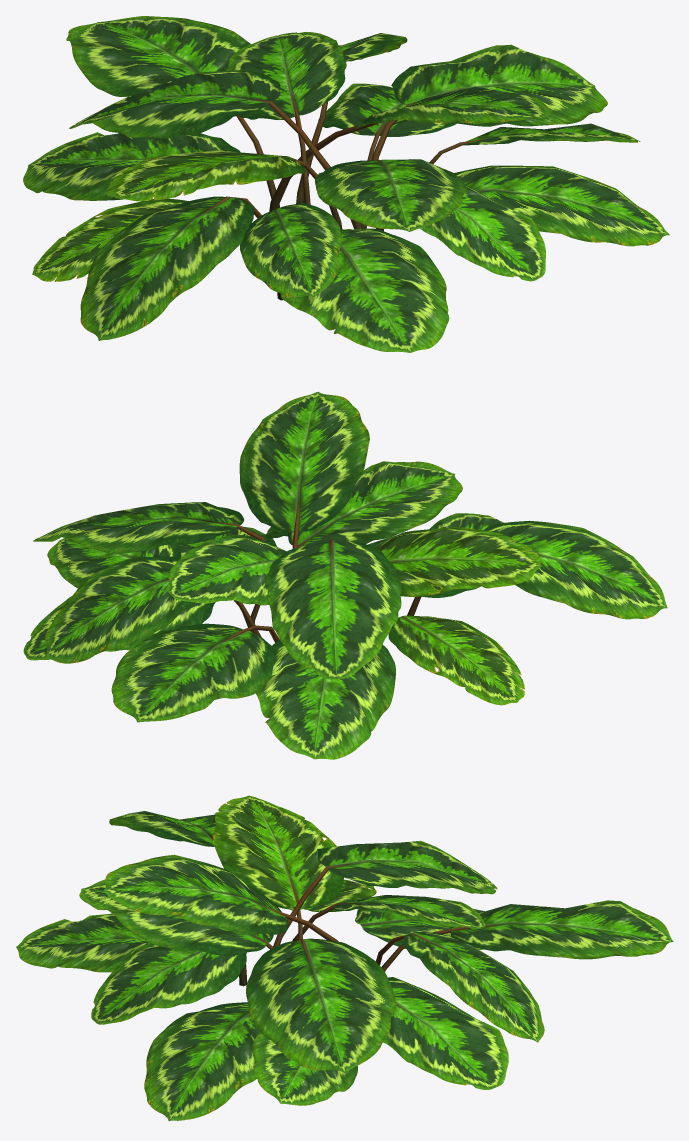
Rendered from tropicalPlant_02.FBX.
The picture shows the model from 3 angles, top to bottom: view 1: azimuth 30°, elevation 25°; view 2: azimuth 150°, elevation 25°; view 3: azimuth 270°, elevation 25°; orthographic projection. The views are drawn at different scales.
Parts seen in each view (by area): view 1: tp_02_Leaf_08, tp_02_Leaf_02, tp_02_Leaf_10, tp_02_Leaf_04, tp_02_Leaf_01, tp_02_Leaf_14, tp_02_Leaf_15, tp_02_Leaf_16, tp_02_Leaf_06, tp_02_Leaf_13, tp_02_Leaf_03, tp_02_Leaf_05 (+6 smaller); view 2: tp_02_Leaf_14, tp_02_Leaf_12, tp_02_Leaf_10, tp_02_Leaf_06, tp_02_Leaf_08, tp_02_Leaf_11, tp_02_Leaf_05, tp_02_Leaf_15, tp_02_Leaf_09, tp_02_Leaf_01, tp_02_Leaf_13, tp_02_Leaf_17 (+3 smaller); view 3: tp_02_Leaf_01, tp_02_Leaf_04, tp_02_Leaf_05, tp_02_Leaf_10, tp_02_Leaf_12, tp_02_Leaf_07, tp_02_Leaf_03, tp_02_Leaf_11, tp_02_Leaf_14, tp_02_Leaf_02, tp_02_Leaf_15, tp_02_Leaf_17 (+5 smaller).
Boxes of the visible parts, left/top/right/bottom form: tp_02_Leaf_08: left=80, top=196, right=254, bottom=340; tp_02_Leaf_02: left=280, top=228, right=449, bottom=352; tp_02_Leaf_10: left=66, top=16, right=250, bottom=96; tp_02_Leaf_04: left=454, top=165, right=669, bottom=246; tp_02_Leaf_01: left=391, top=44, right=607, bottom=126; tp_02_Leaf_14: left=69, top=70, right=280, bottom=138; tp_02_Leaf_15: left=315, top=159, right=468, bottom=231; tp_02_Leaf_16: left=240, top=203, right=341, bottom=296; tp_02_Leaf_06: left=23, top=132, right=240, bottom=200; tp_02_Leaf_13: left=228, top=32, right=346, bottom=119; tp_02_Leaf_03: left=420, top=184, right=545, bottom=281; tp_02_Leaf_05: left=106, top=150, right=305, bottom=201; tp_02_Leaf_14: left=266, top=540, right=401, bottom=679; tp_02_Leaf_12: left=239, top=391, right=369, bottom=532; tp_02_Leaf_10: left=111, top=623, right=276, bottom=722; tp_02_Leaf_06: left=255, top=640, right=395, bottom=759; tp_02_Leaf_08: left=483, top=520, right=667, bottom=619; tp_02_Leaf_11: left=45, top=556, right=193, bottom=663; tp_02_Leaf_05: left=375, top=527, right=541, bottom=596; tp_02_Leaf_15: left=287, top=461, right=462, bottom=546; tp_02_Leaf_09: left=388, top=615, right=524, bottom=705; tp_02_Leaf_01: left=33, top=502, right=244, bottom=553; tp_02_Leaf_13: left=167, top=535, right=286, bottom=605; tp_02_Leaf_17: left=47, top=538, right=181, bottom=588; tp_02_Leaf_01: left=246, top=938, right=396, bottom=1072; tp_02_Leaf_04: left=144, top=1002, right=259, bottom=1121; tp_02_Leaf_05: left=212, top=795, right=343, bottom=907; tp_02_Leaf_10: left=450, top=900, right=673, bottom=959; tp_02_Leaf_12: left=103, top=854, right=288, bottom=934; tp_02_Leaf_07: left=383, top=977, right=508, bottom=1089; tp_02_Leaf_03: left=91, top=942, right=246, bottom=1024; tp_02_Leaf_11: left=403, top=932, right=544, bottom=1042; tp_02_Leaf_14: left=317, top=840, right=497, bottom=894; tp_02_Leaf_02: left=16, top=913, right=148, bottom=972; tp_02_Leaf_15: left=79, top=879, right=273, bottom=955; tp_02_Leaf_17: left=252, top=1032, right=357, bottom=1105.
Size of the model in its own units: 138 by 40.89 by 141.
